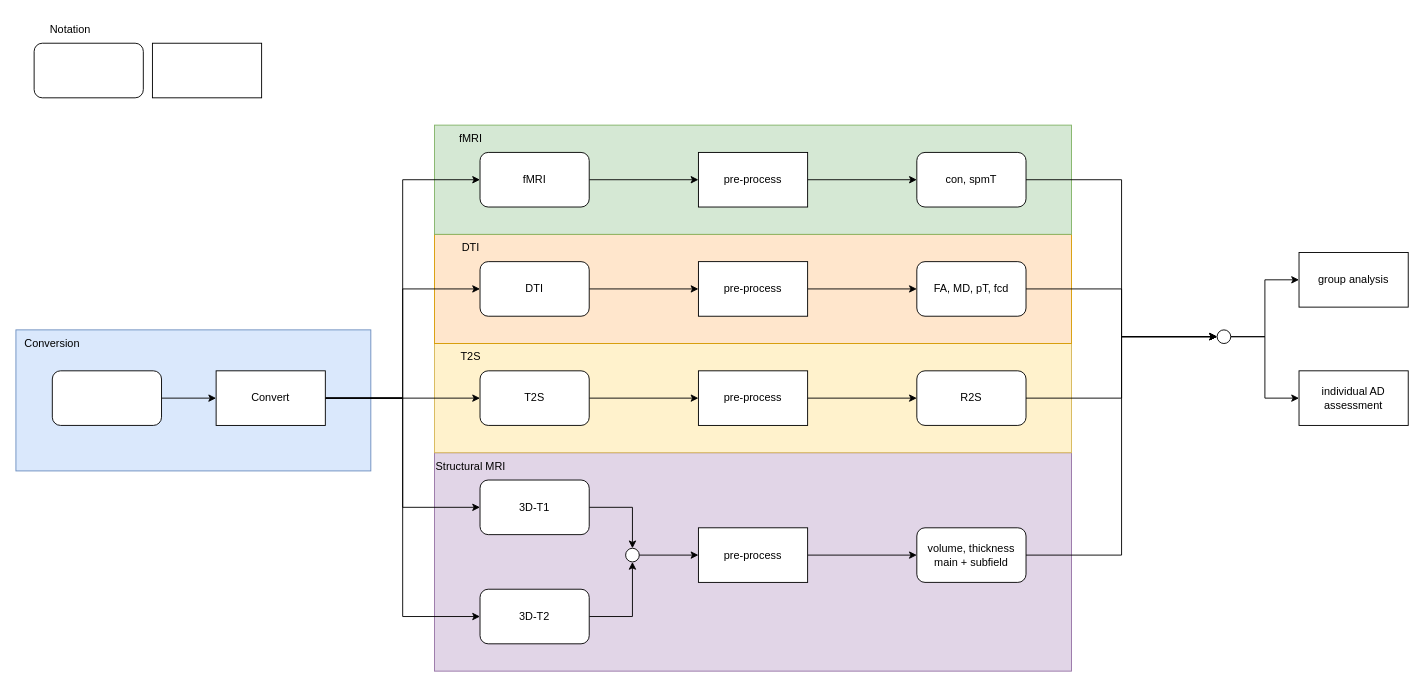
The diagram is 1424 pixels wide and 687 high, and some of its shapes have lost their labels. Here are the shapes that lost their labels. From the top down, the centre of each, then its label:
point 88,70: Input/Output
point 207,70: Process/Task
point 106,397: DICOM
